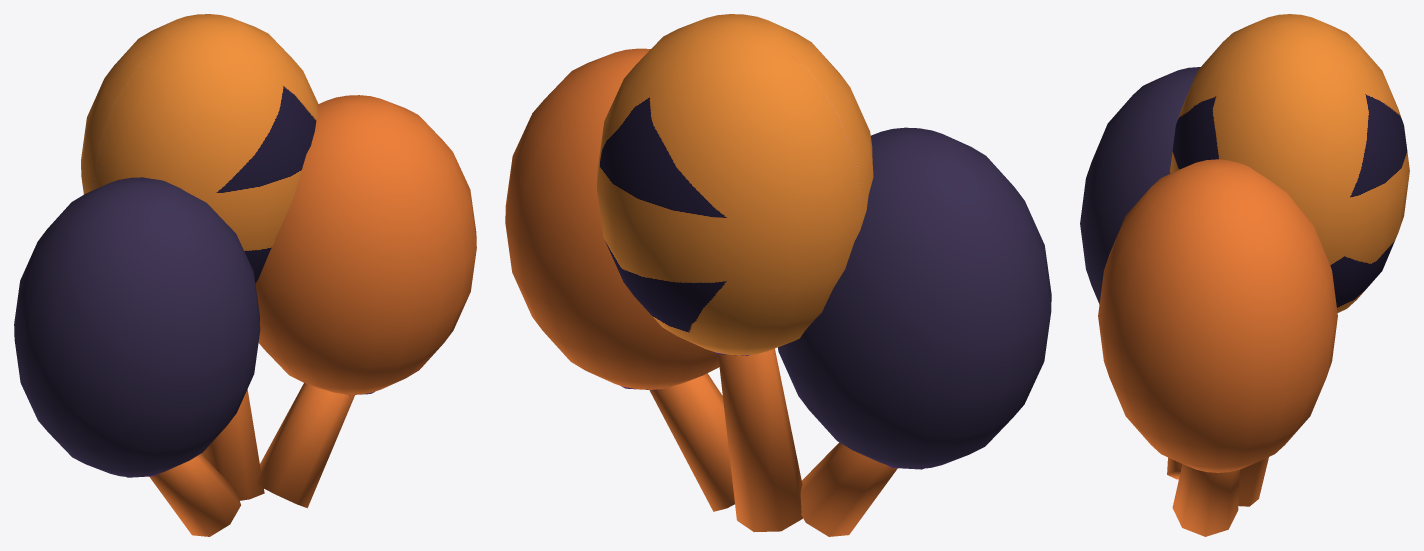
File: ACC_TH_PARTY_Primary.fbx
3 renders of one model, left to right at view 1: azimuth 30°, elevation 25°; view 2: azimuth 150°, elevation 25°; view 3: azimuth 270°, elevation 25°, orthographic. The views are drawn at different scales.
Visible parts, largest first — view 1: ACC_TH_PARTY_Primary; view 2: ACC_TH_PARTY_Primary; view 3: ACC_TH_PARTY_Primary.
Part boxes in pixels (bbox=[...]): ACC_TH_PARTY_Primary: bbox=[14, 14, 476, 536]; ACC_TH_PARTY_Primary: bbox=[505, 14, 1051, 536]; ACC_TH_PARTY_Primary: bbox=[1080, 14, 1409, 536].
Bounding box in the file's own units: 89 × 89.25 × 55.
